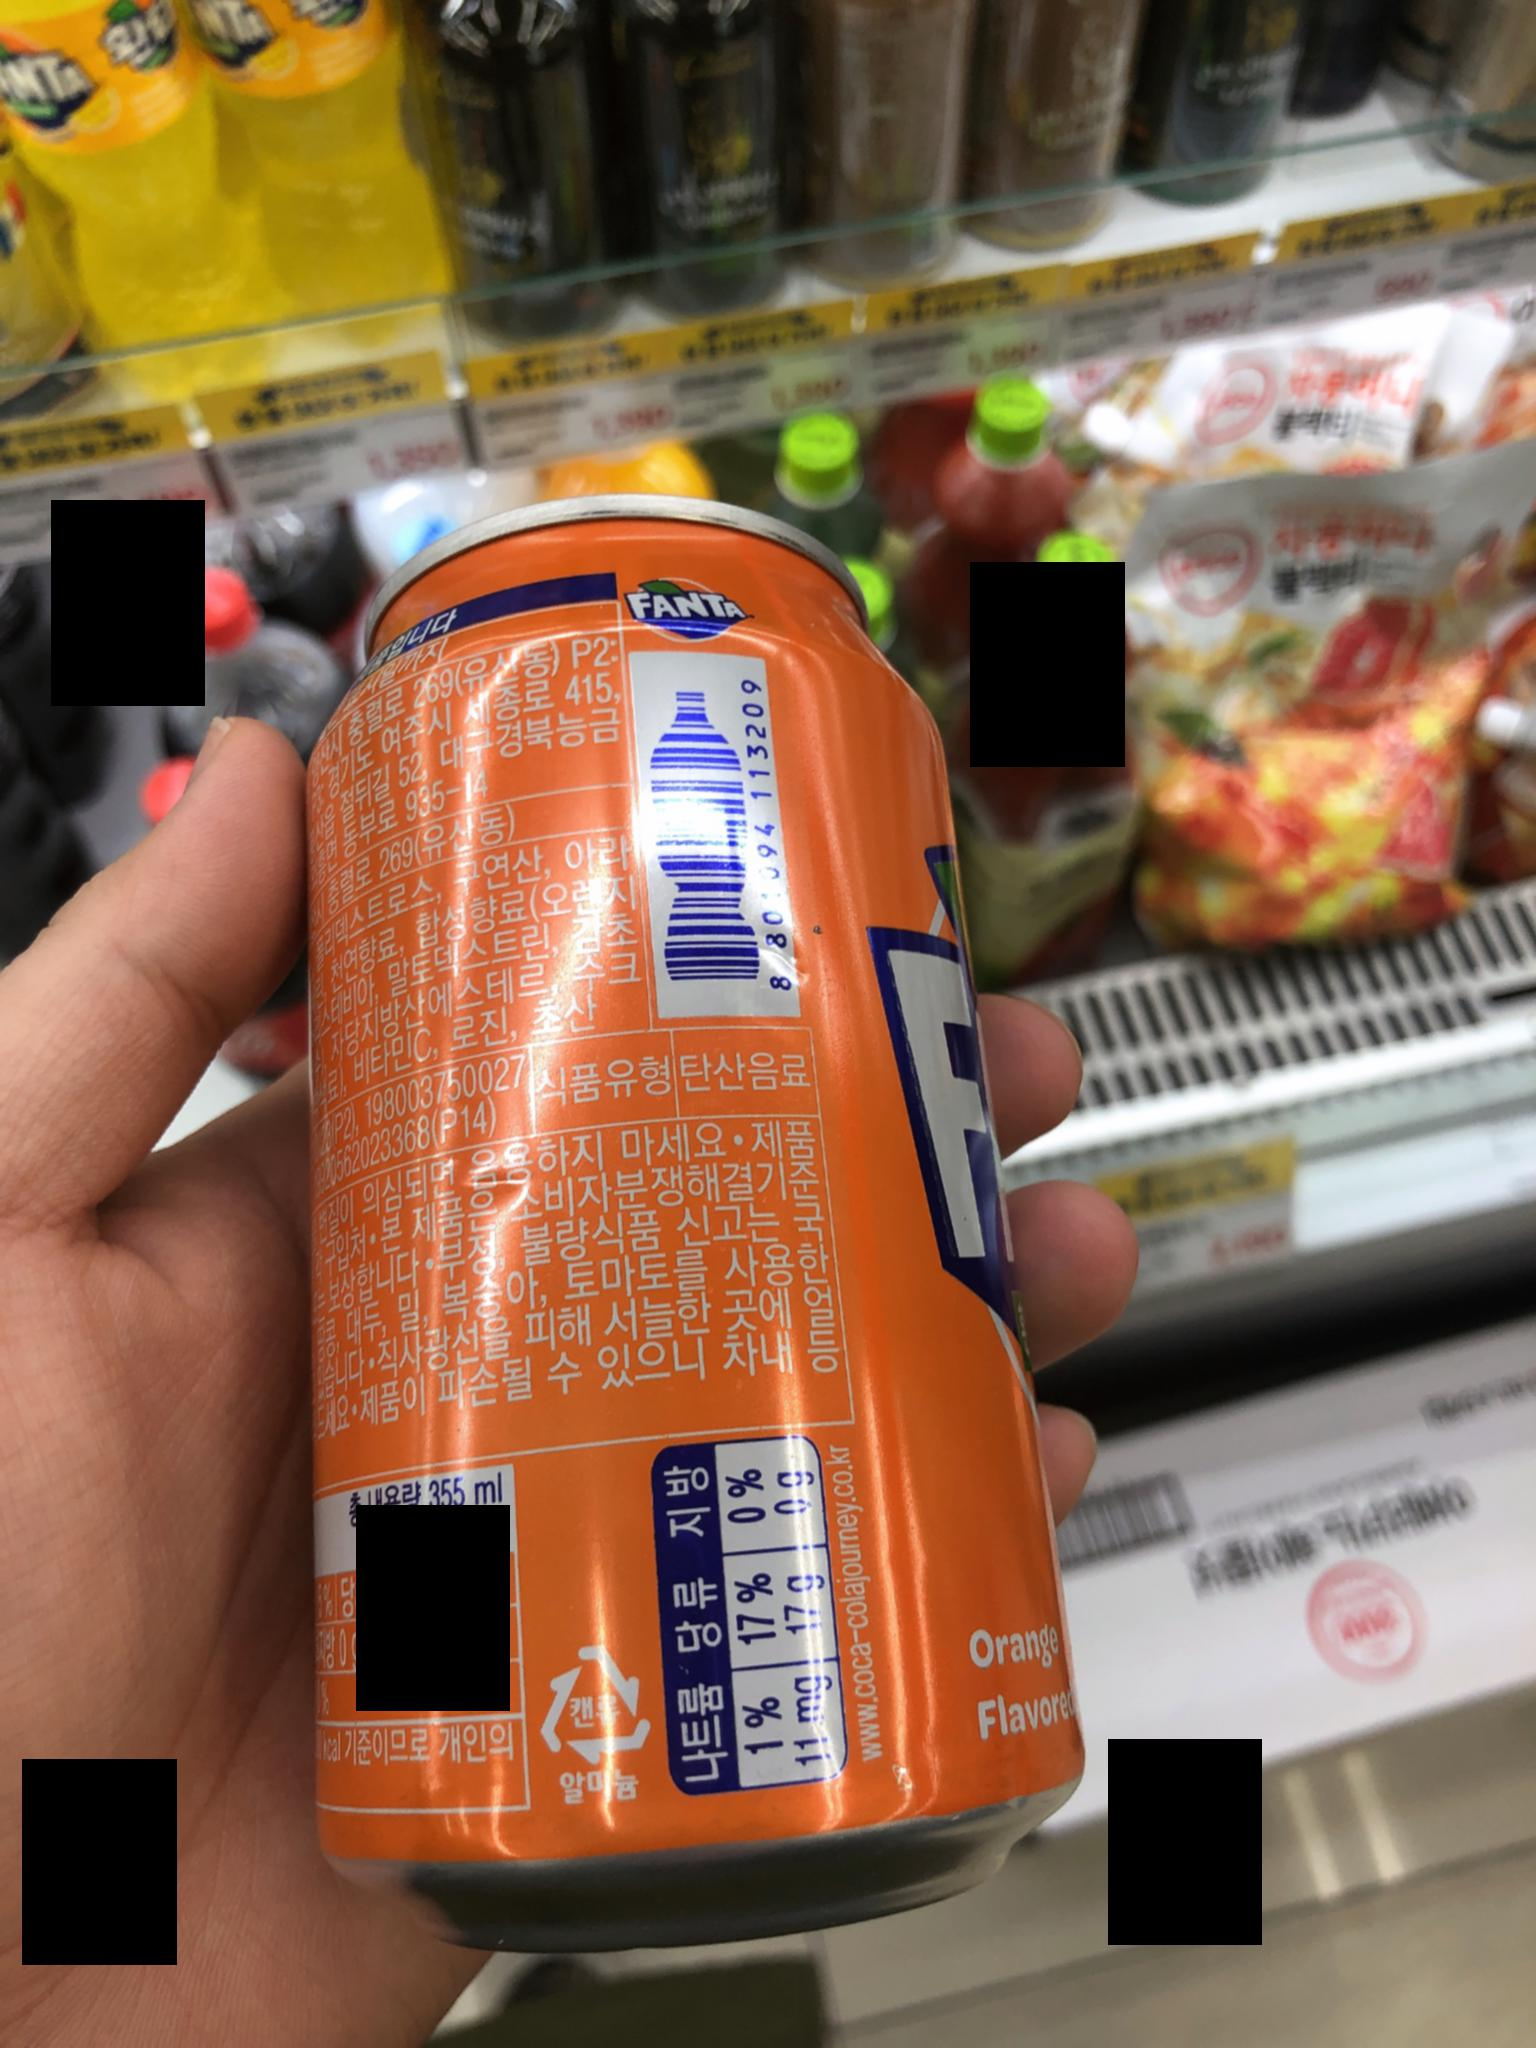fanta_orange: (181, 398, 1181, 1979)
